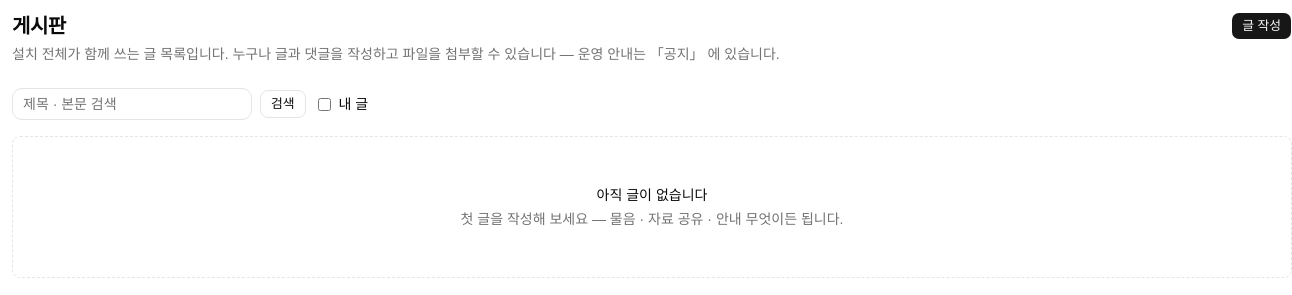
it: 게시판 › 거른 목록이 비면 조건을 말한다
Expected: the text "아직 글이 없습니다" is shown, [597,187,707,203]
Click the checkbox labelled "내 글" at [324, 104], box [318,98,330,110]
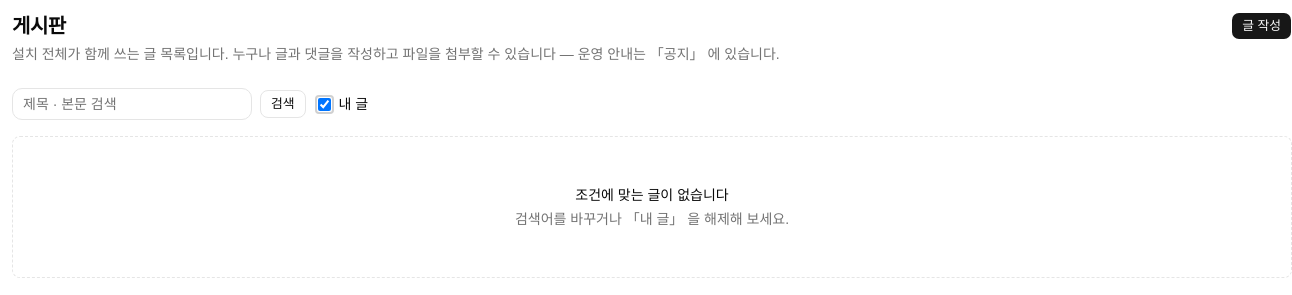
Result: the text "조건에 맞는 글이 없습니다" is shown at [575,187,729,203]
